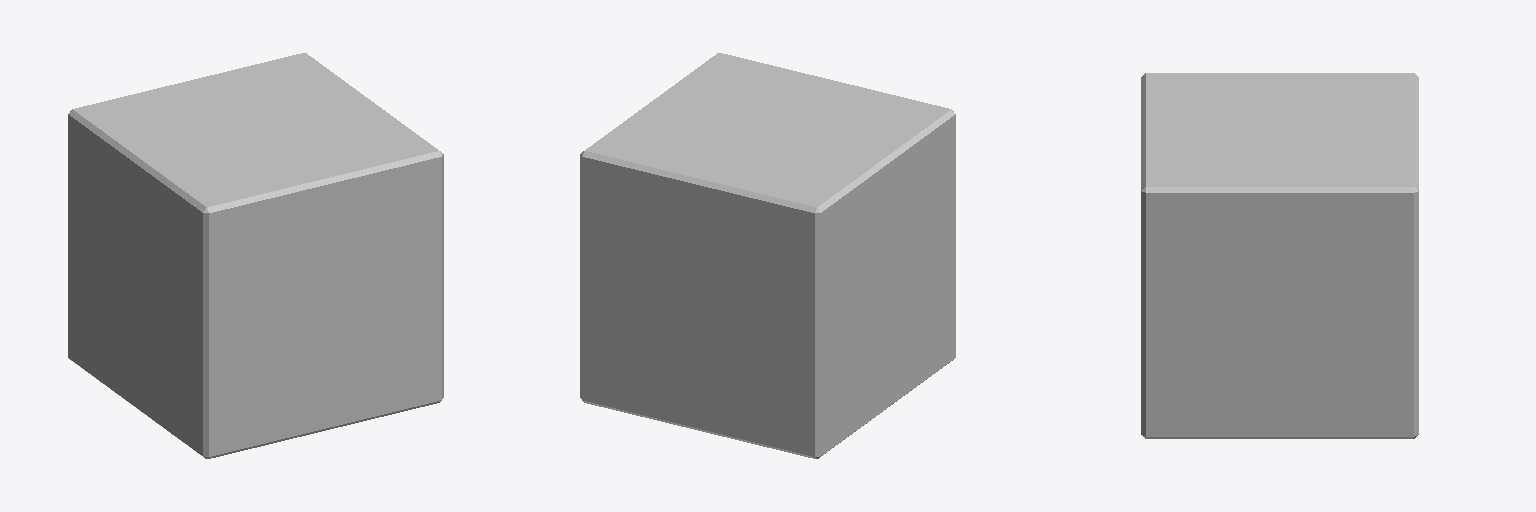
Rendered from smooth_box.obj.
3 views of the same model, side by side, from view 1: azimuth 30°, elevation 25°; view 2: azimuth 150°, elevation 25°; view 3: azimuth 270°, elevation 25° (orthographic).
Visible parts, largest first — view 1: Cube; view 2: Cube; view 3: Cube.
Part boxes in pixels (x1,y1,x2,y2): Cube: (68, 53, 443, 458); Cube: (580, 53, 955, 458); Cube: (1141, 73, 1418, 438).
Size of the model in its own units: 2 by 2 by 2.